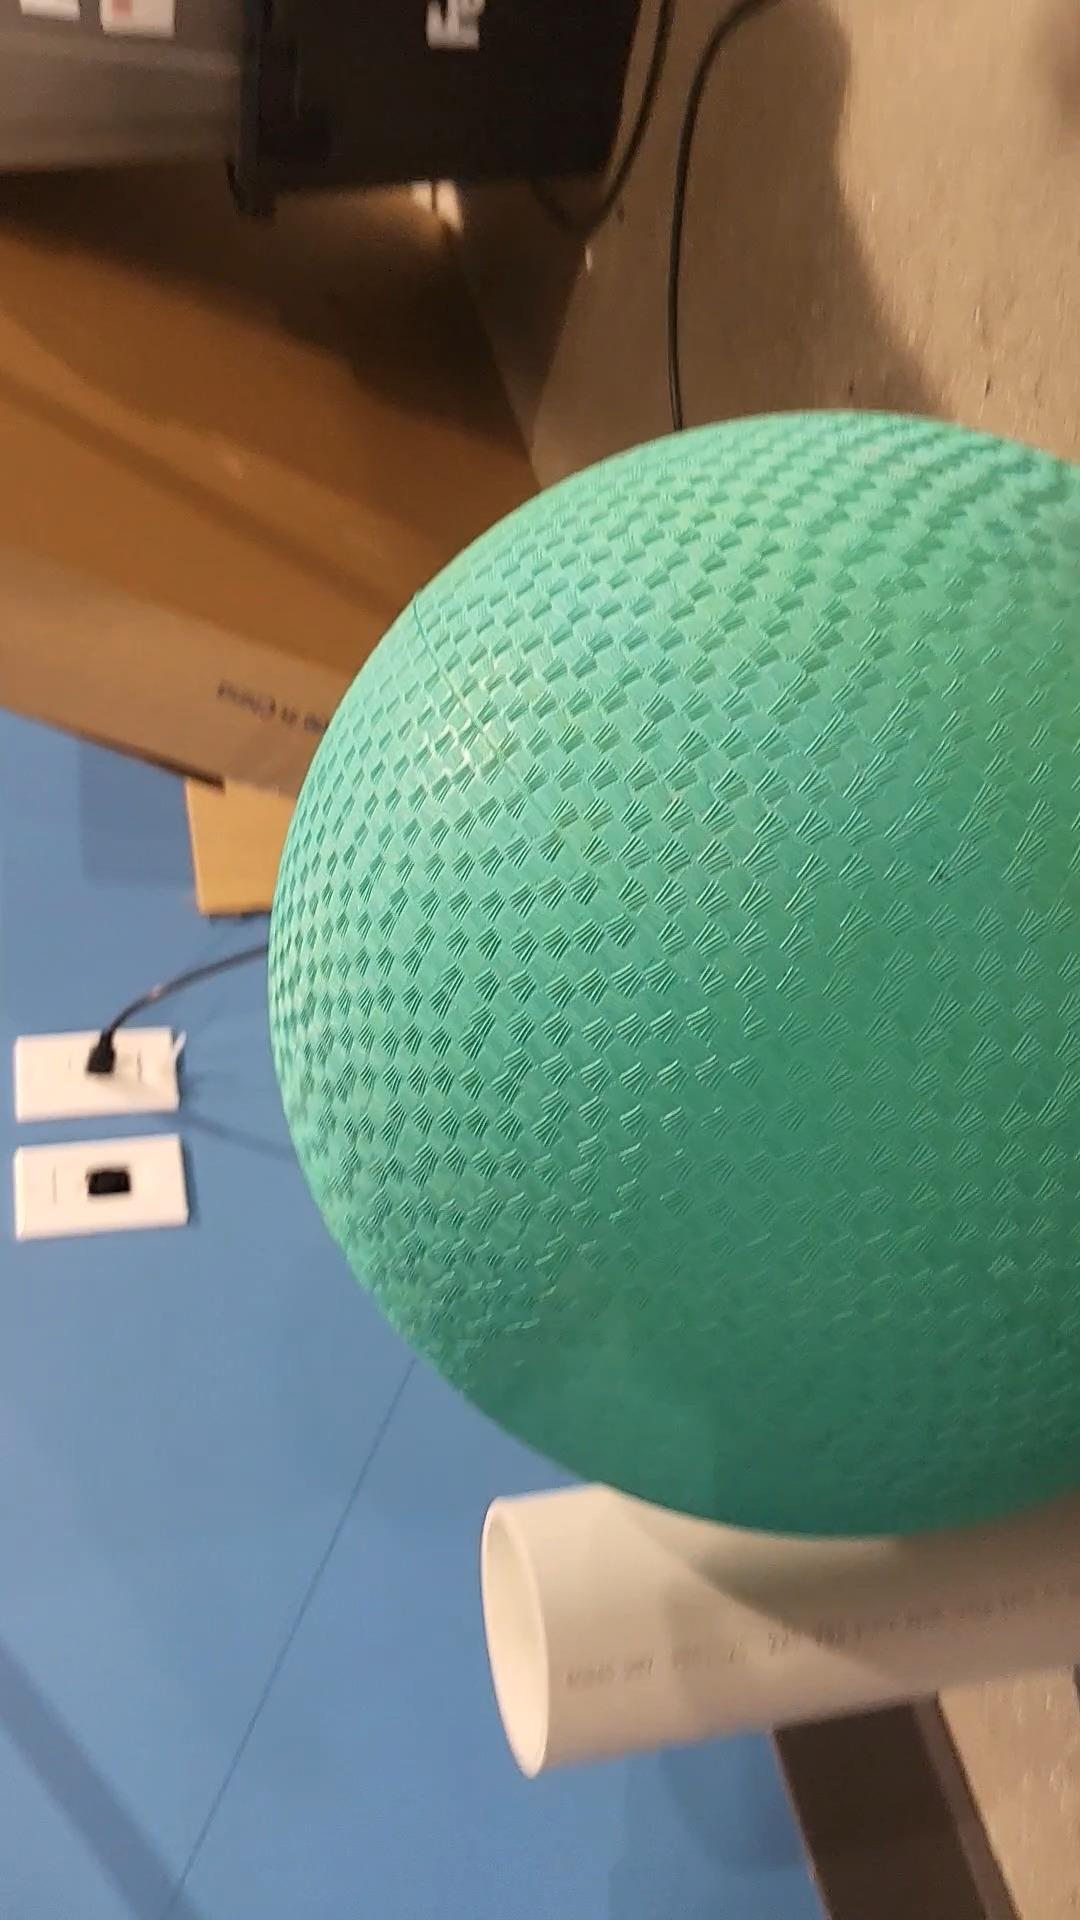algae: (260, 407, 1080, 1553)
coral: (491, 1431, 1080, 1783)
